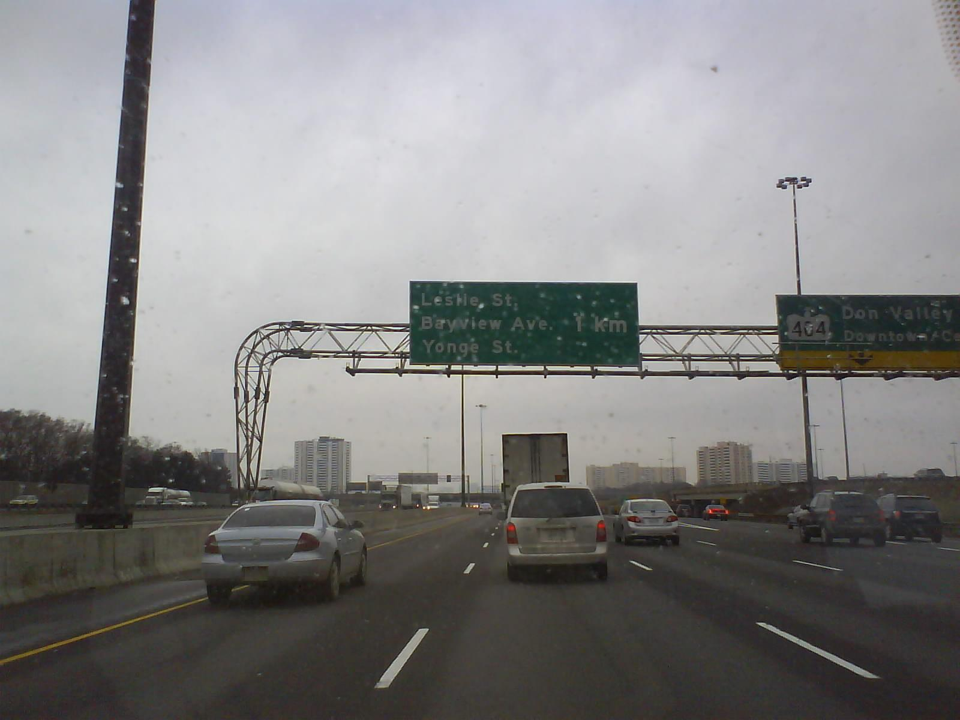bus: (500, 432, 572, 526), (379, 484, 413, 510), (407, 490, 428, 510), (427, 495, 441, 511)
car: (201, 499, 368, 602), (502, 480, 608, 575), (796, 490, 891, 548), (863, 493, 944, 545), (613, 498, 680, 547), (787, 502, 834, 530), (702, 503, 729, 522), (9, 493, 39, 506), (675, 504, 693, 518), (479, 502, 493, 515)
